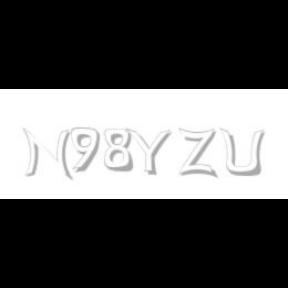8: (104, 128, 134, 172)
9: (70, 128, 100, 172)
N: (22, 128, 72, 180)
U: (218, 128, 264, 178)
Y: (125, 128, 171, 176)
Z: (179, 128, 216, 178)
